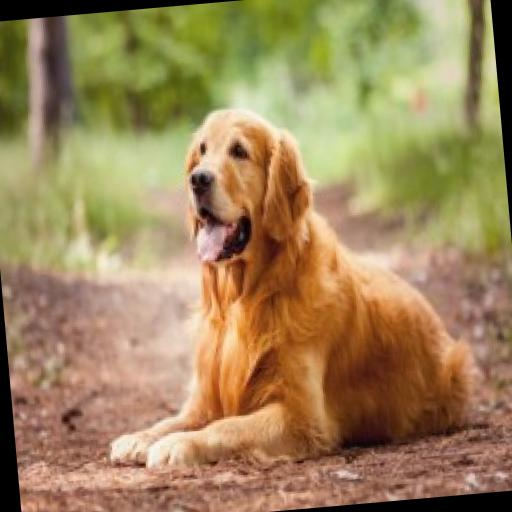dog: (78, 77, 496, 474)
